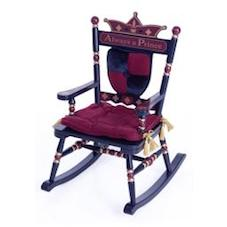chair: (34, 9, 197, 214)
